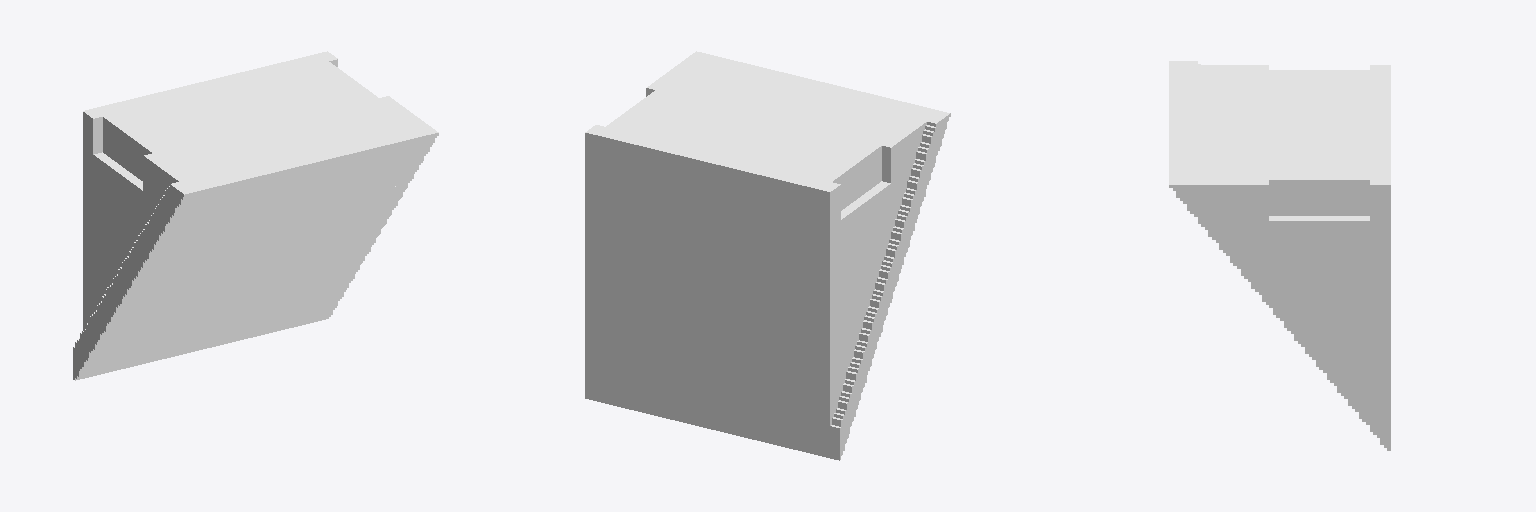
Rendered from Building2-Roof-0.obj.
3 renders of one model, left to right at view 1: azimuth 30°, elevation 25°; view 2: azimuth 150°, elevation 25°; view 3: azimuth 270°, elevation 25°, orthographic.
Parts seen in each view (by area): view 1: object 1; view 2: object 1; view 3: object 1.
Part boxes in pixels (left/top/right/bottom): object 1: left=73, top=51, right=438, bottom=380; object 1: left=585, top=51, right=950, bottom=460; object 1: left=1169, top=61, right=1390, bottom=450.
Size of the model in its own units: 82 by 82 by 62.